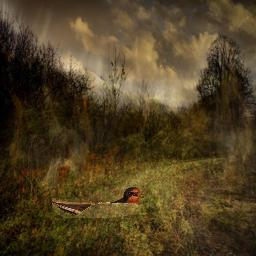Swallow: (52, 186, 141, 218)
